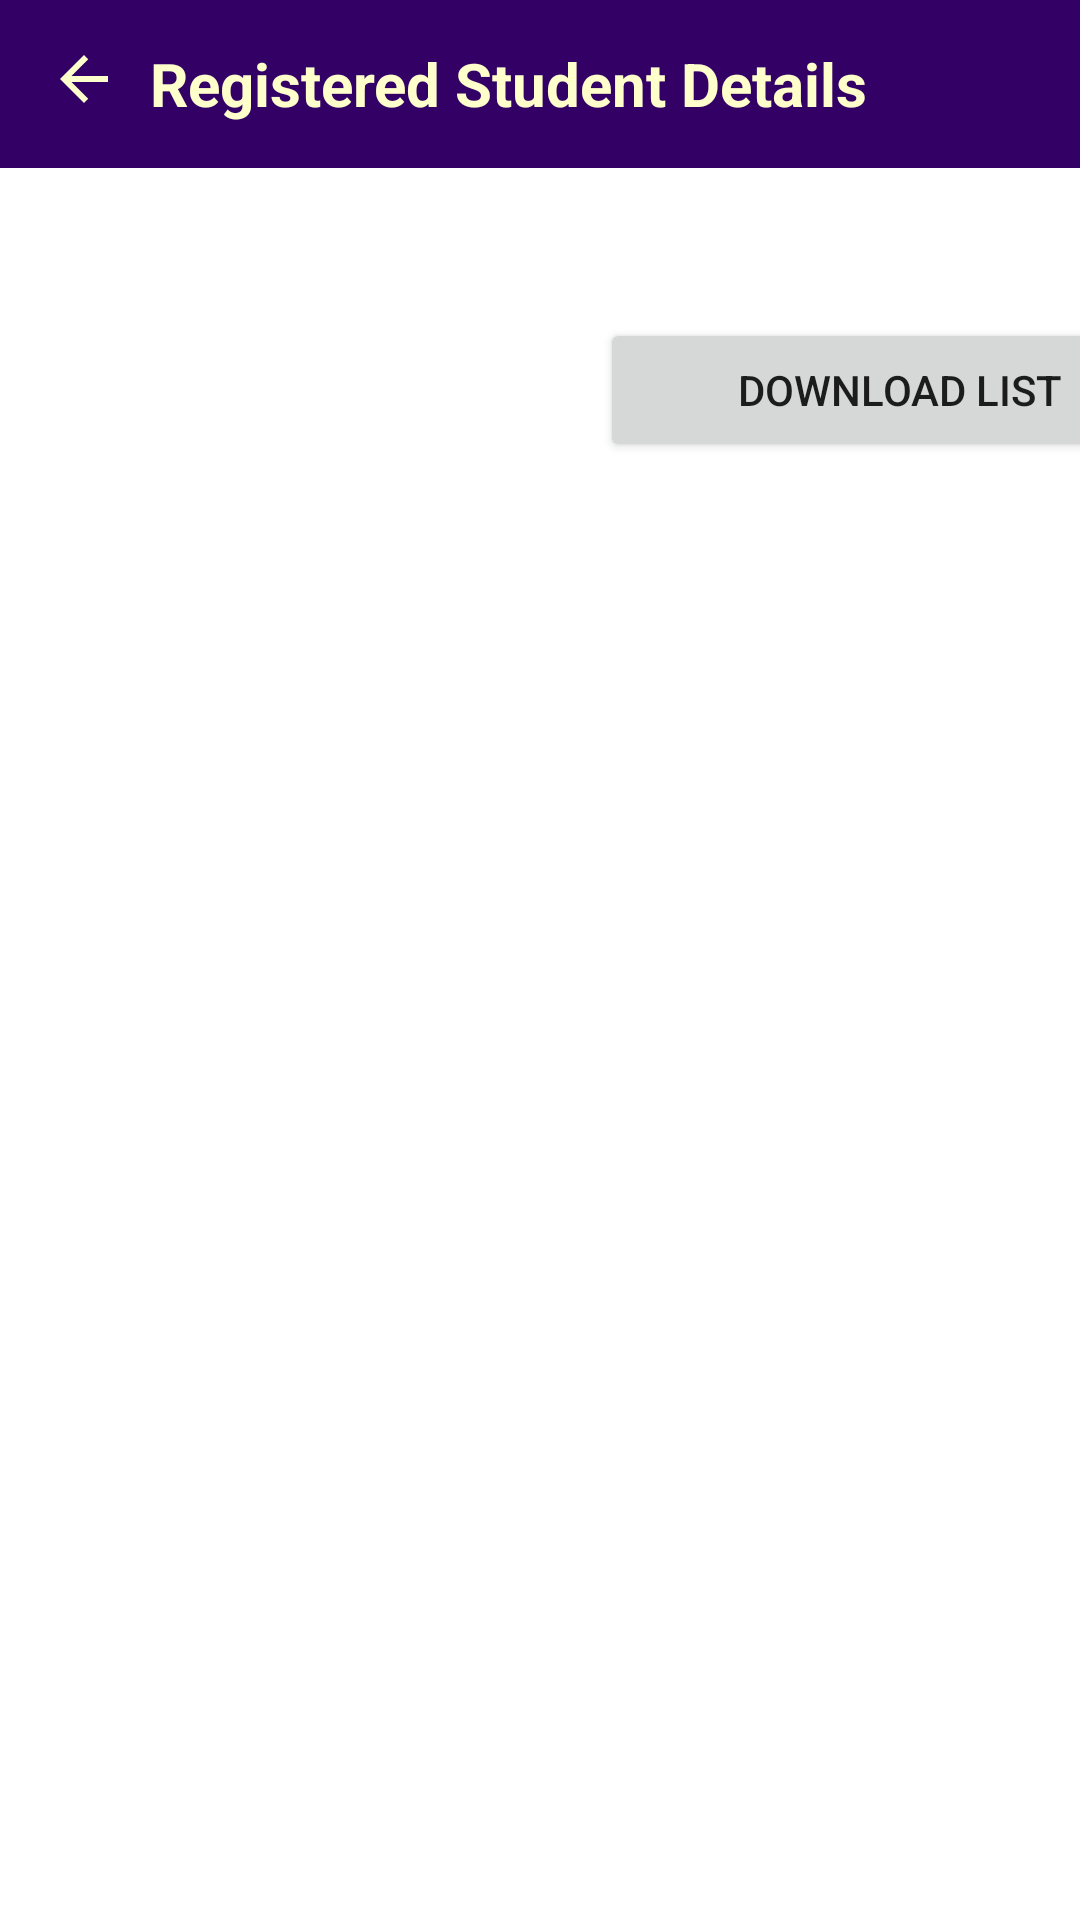

Icons on this 1080px x 1920px Android screen, each with its box as (x1, y1, x2, y2):
back: (60, 55, 108, 103)
